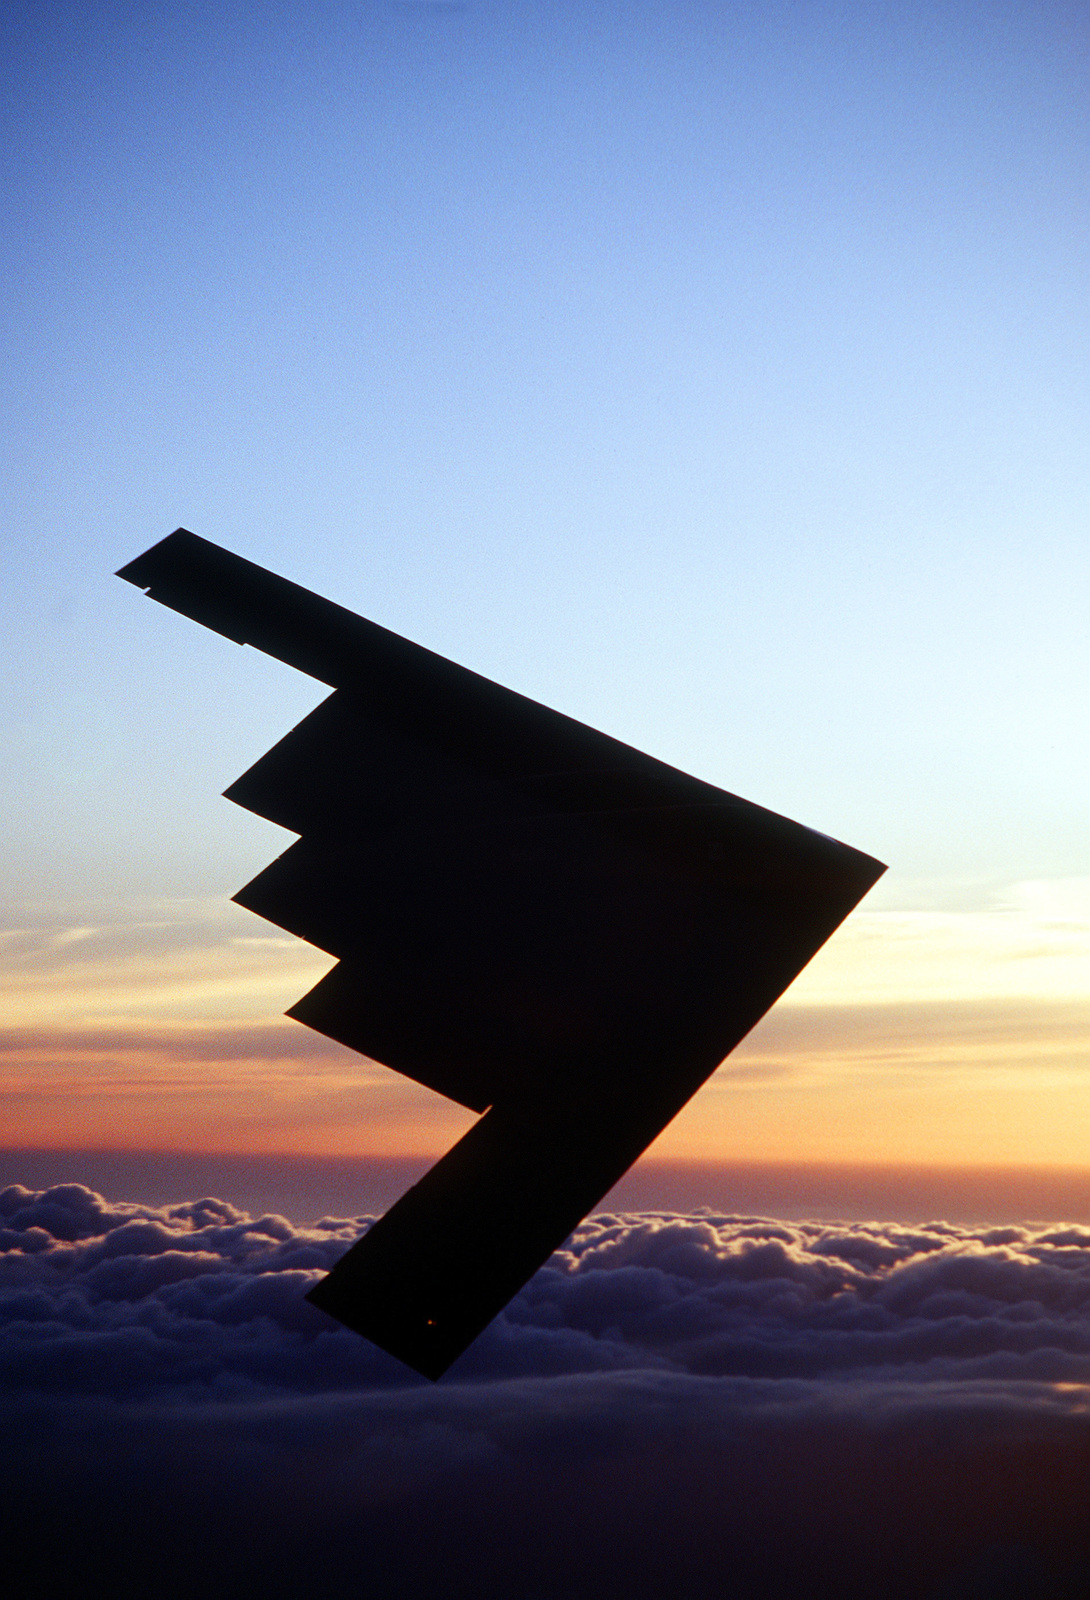B2: (111, 525, 893, 1385)
